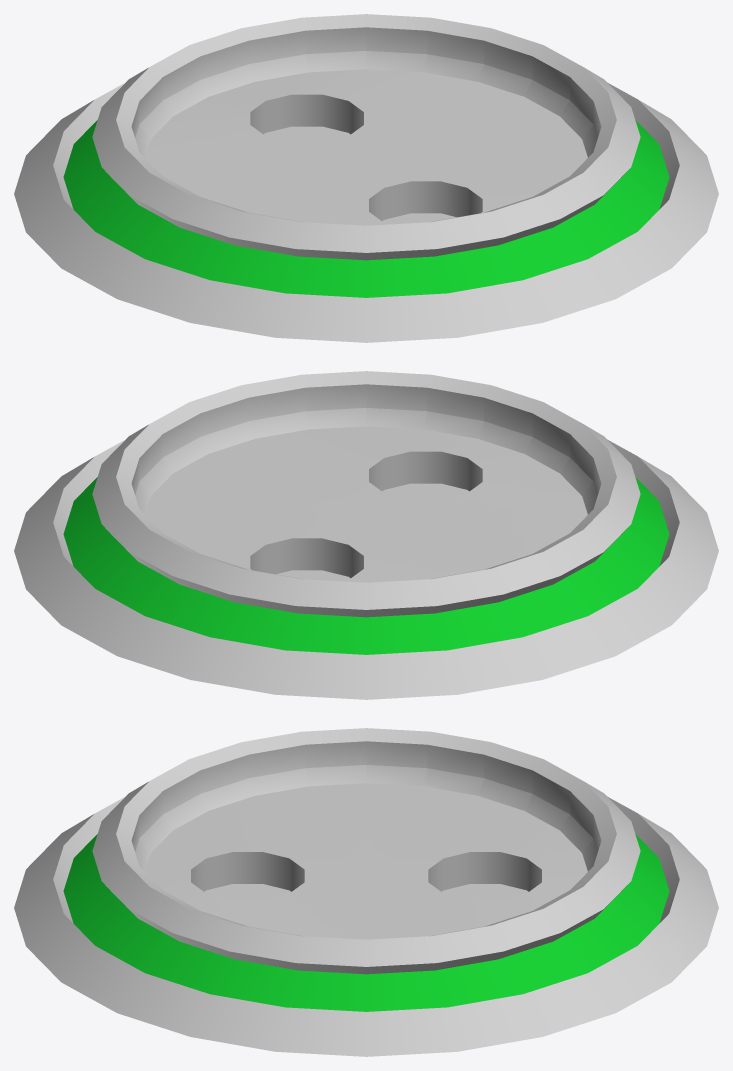
The model's file is socketAndPlug.fbx.
3 renders of one model, top to bottom at view 1: azimuth 30°, elevation 25°; view 2: azimuth 150°, elevation 25°; view 3: azimuth 270°, elevation 25°, orthographic.
Visible parts, largest first — view 1: socket; view 2: socket; view 3: socket.
Boxes of the visible parts, x1,y1,x2,y2 form: socket: (14,14,718,342); socket: (14,371,718,699); socket: (14,728,718,1056).
Size of the model in its own units: 30 by 3.48 by 30.
